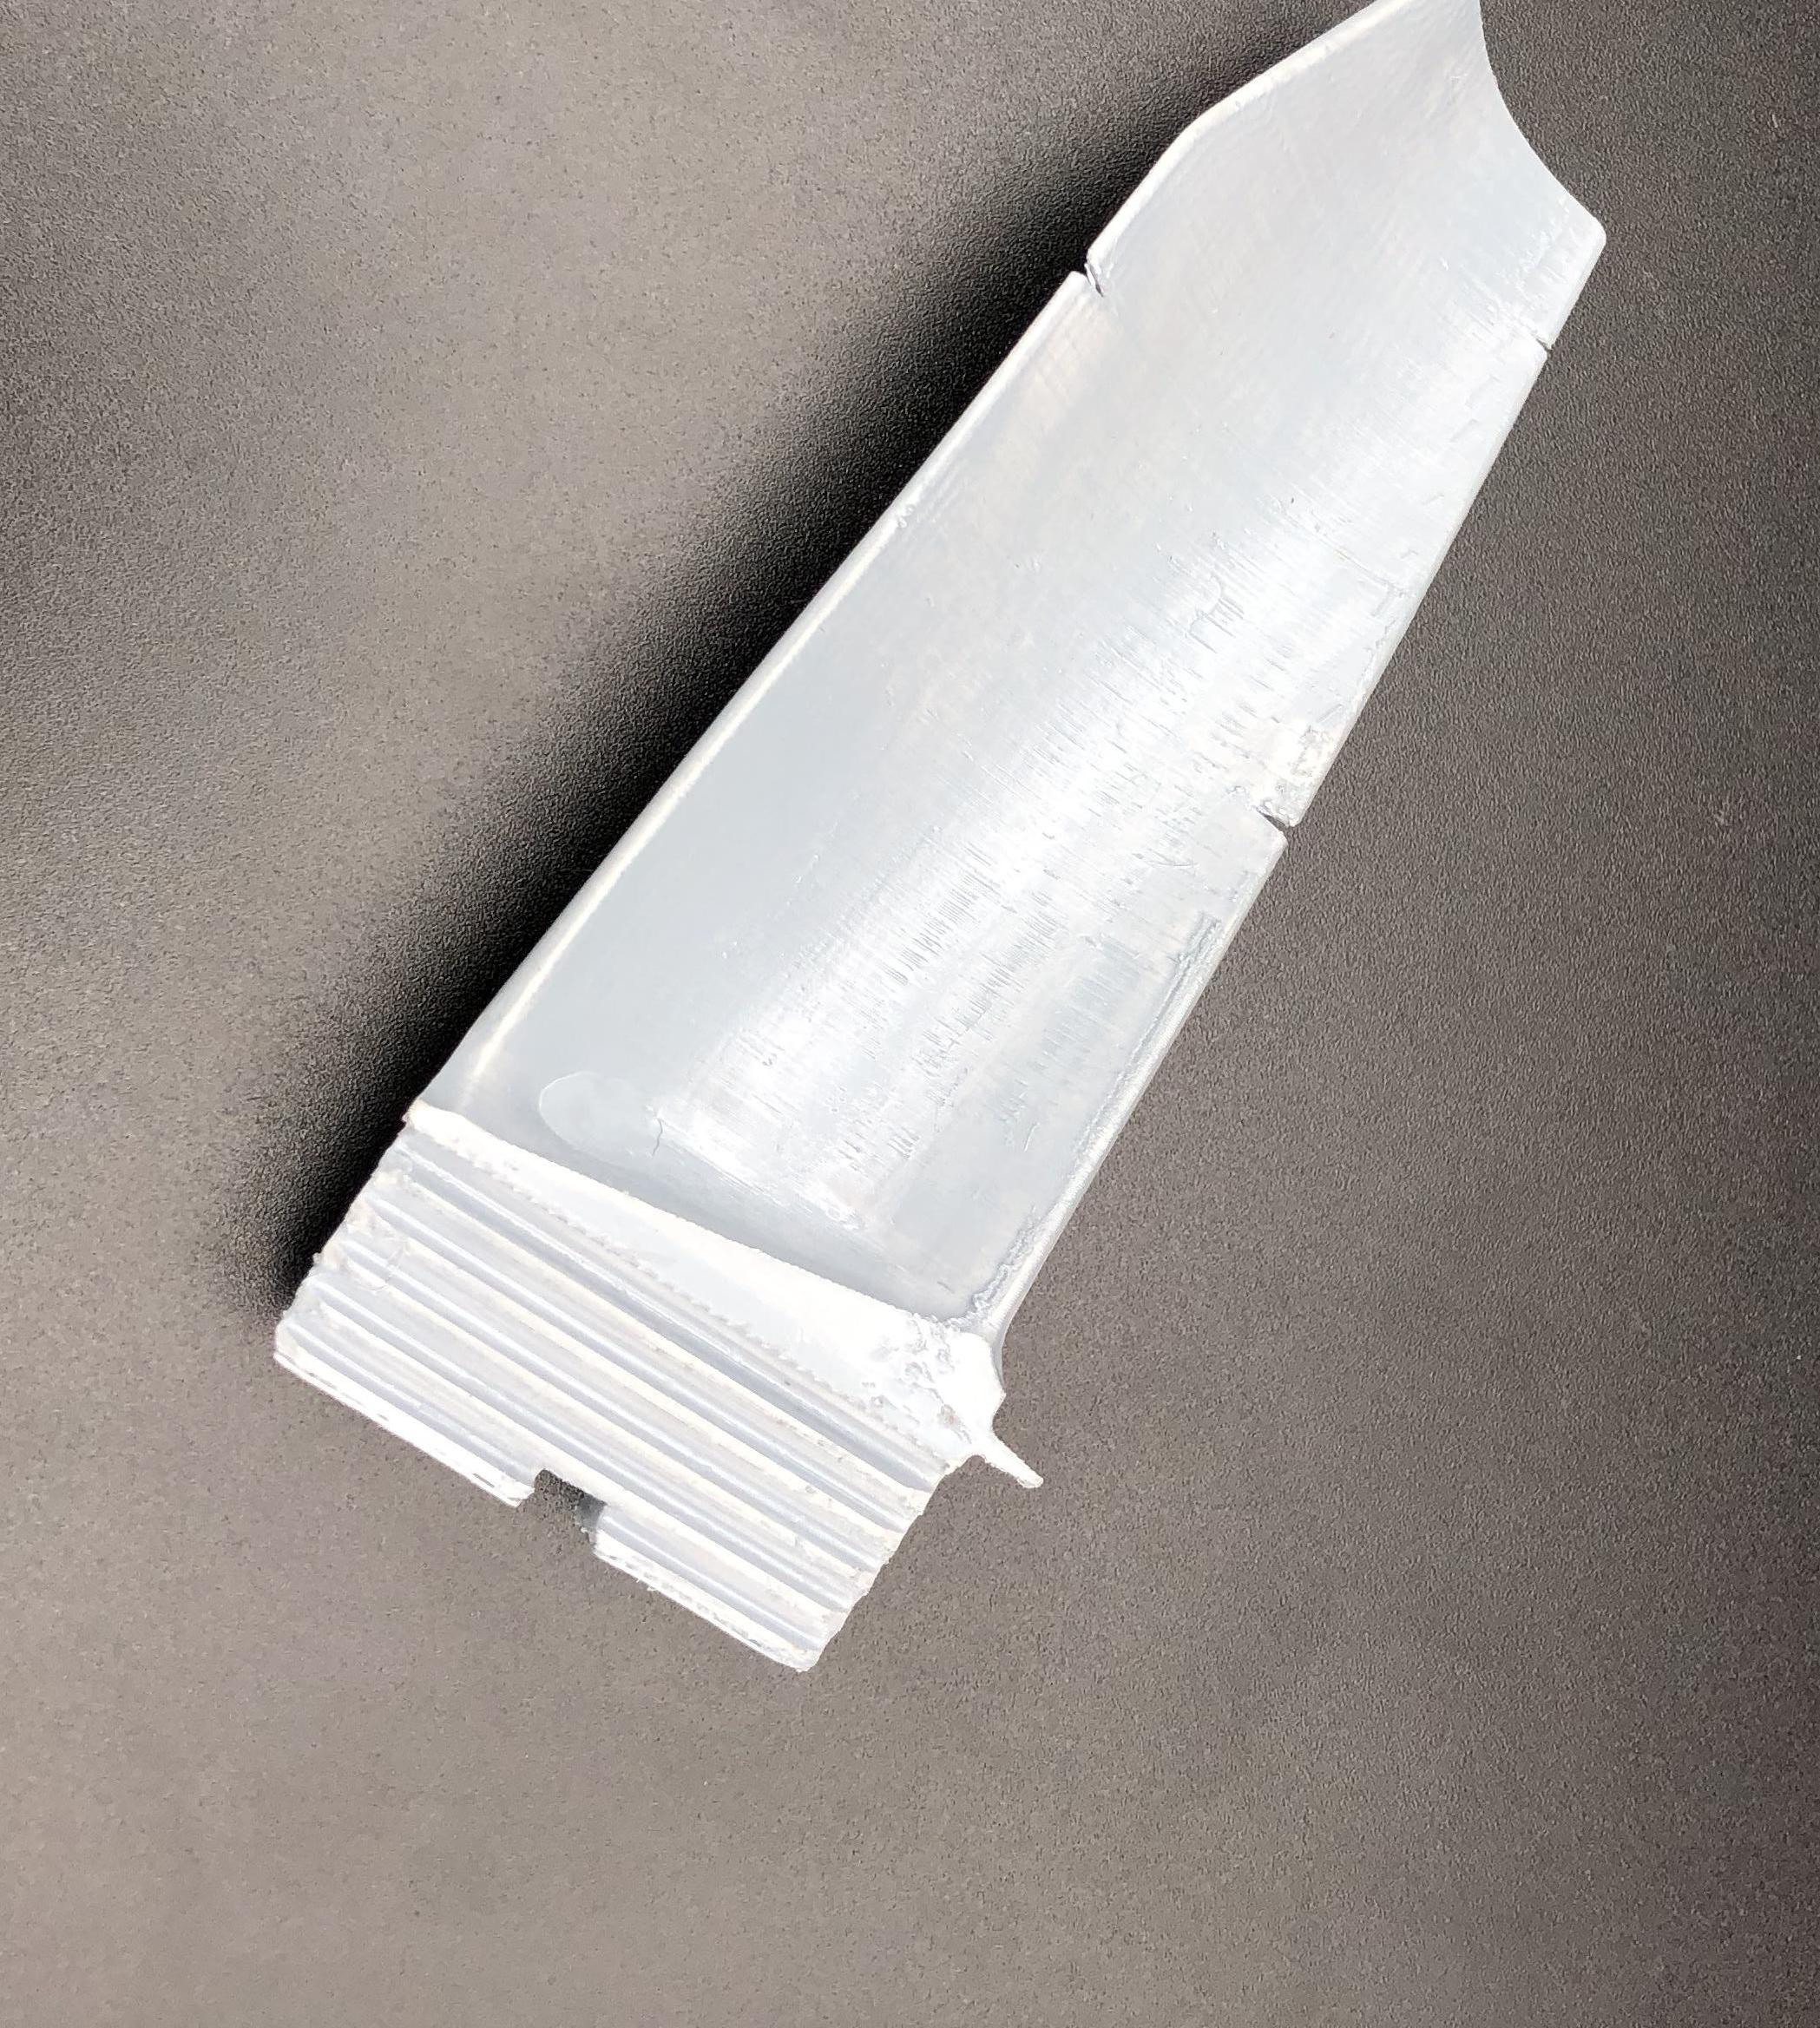groove: (1063, 249, 1126, 309), (1247, 797, 1311, 850), (1520, 316, 1576, 363)
